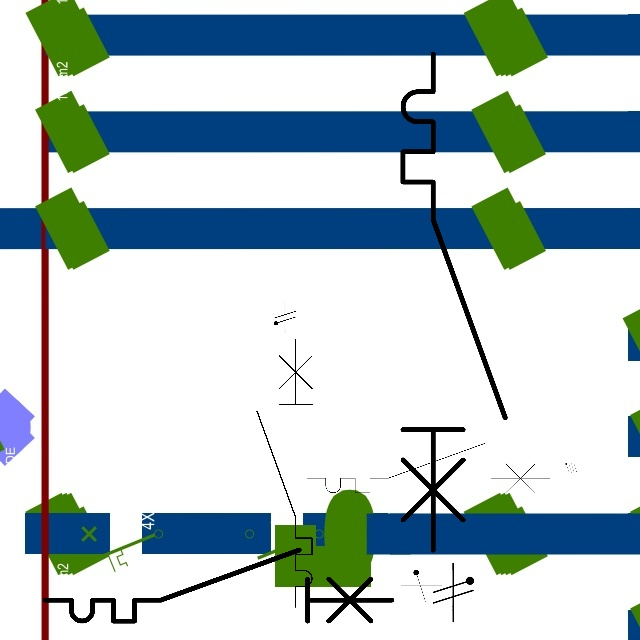interruptor_termomagnetico: (390, 41, 517, 562), (36, 541, 401, 630), (250, 332, 319, 613), (301, 437, 556, 499)
